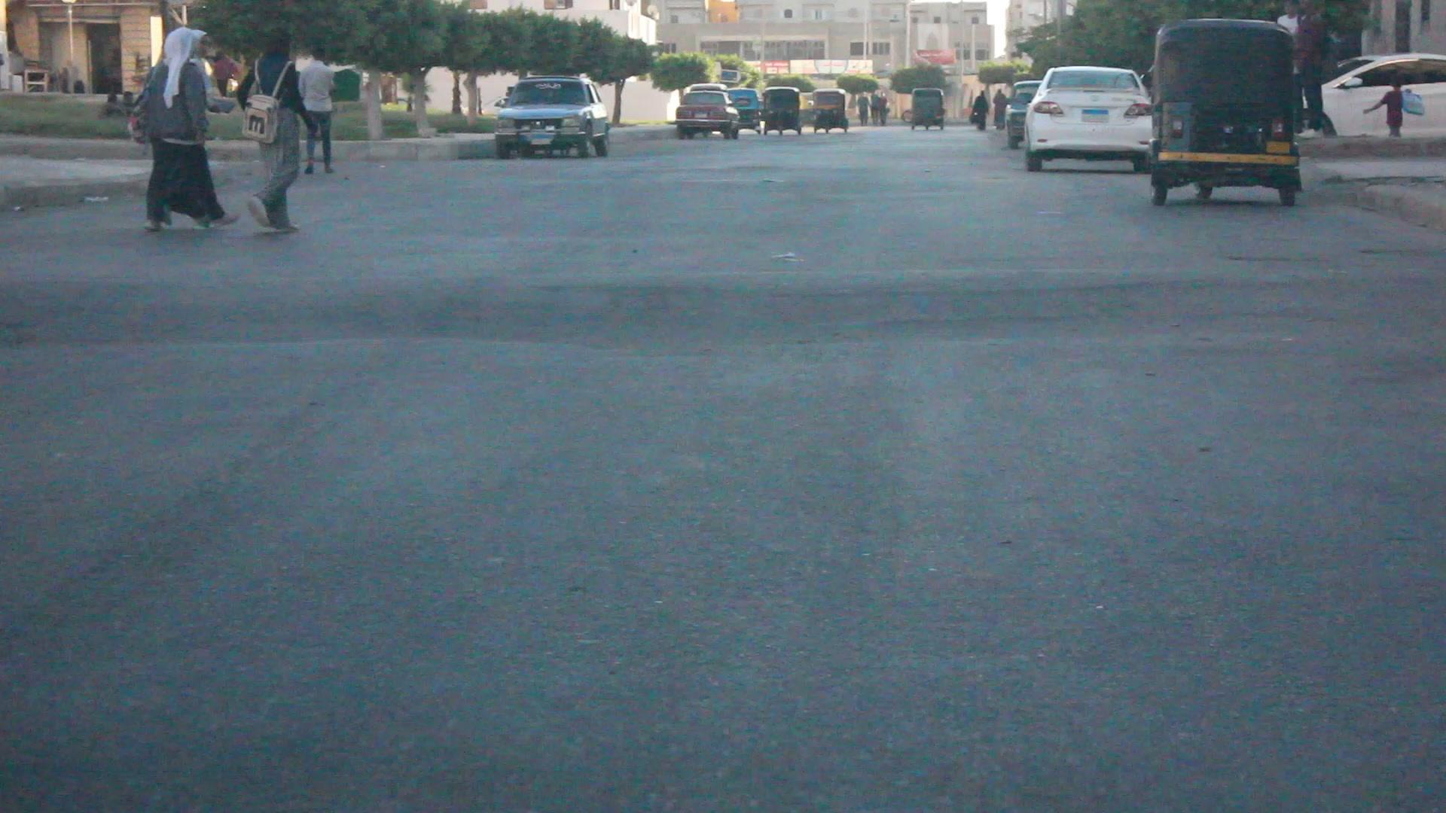Bump: (0, 265, 1445, 352)
